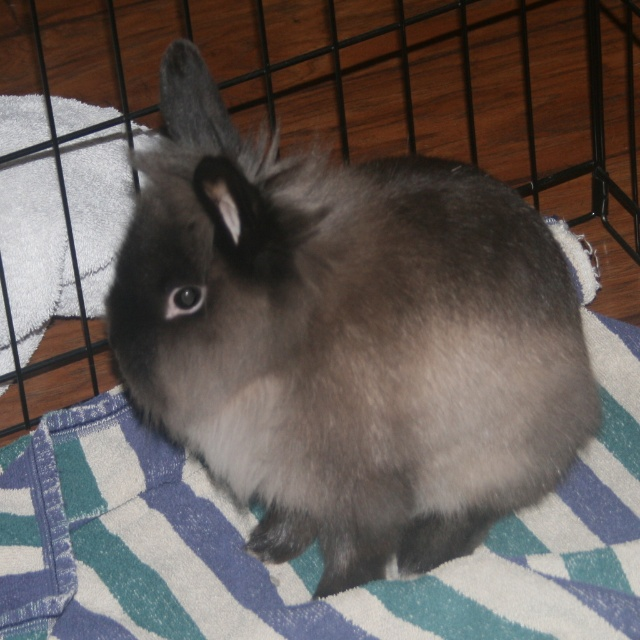Rabbit: (103, 40, 604, 600)
